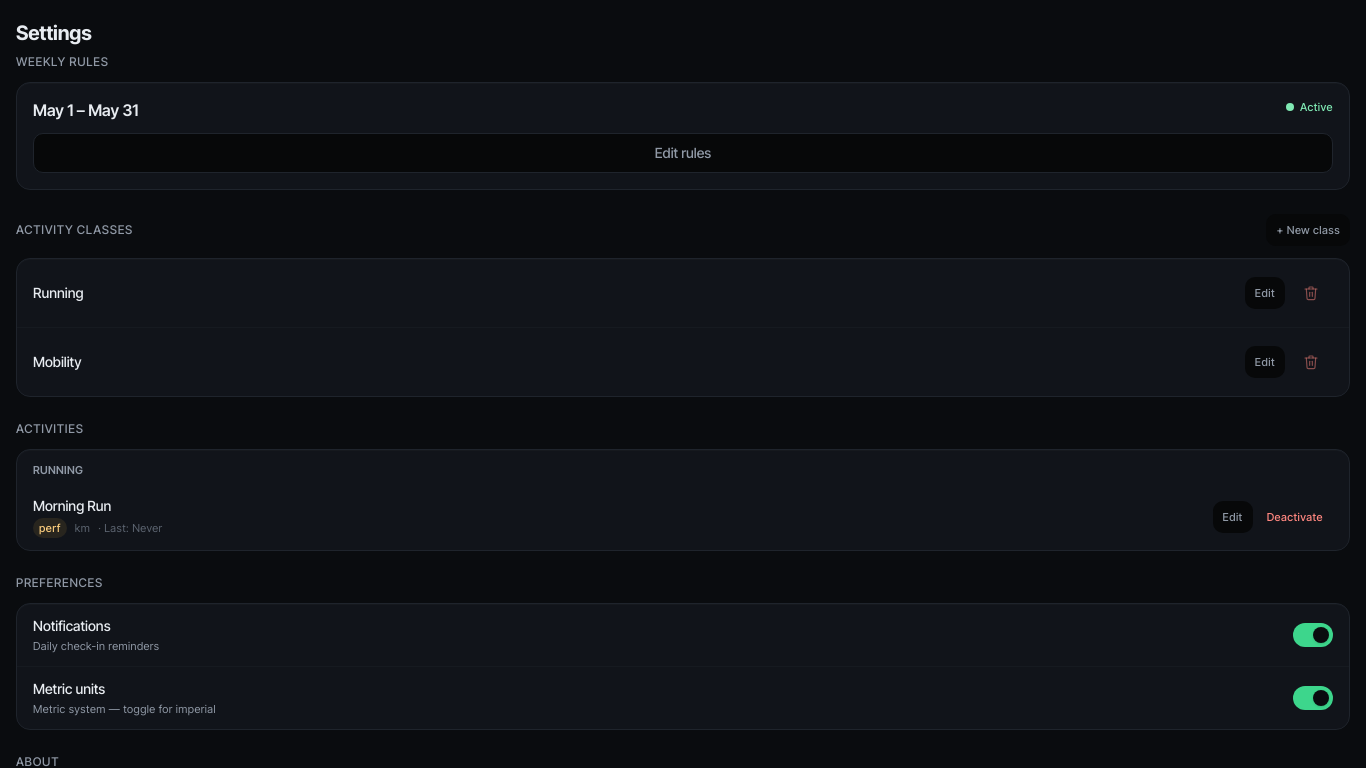
Test case: SettingsScreen — P25.3 Edit activity centered modal › retains X close control that dismisses the modal without saving
Click the button with aria-label "edit morning run" at point(1233, 517), box [1212,501,1253,533]
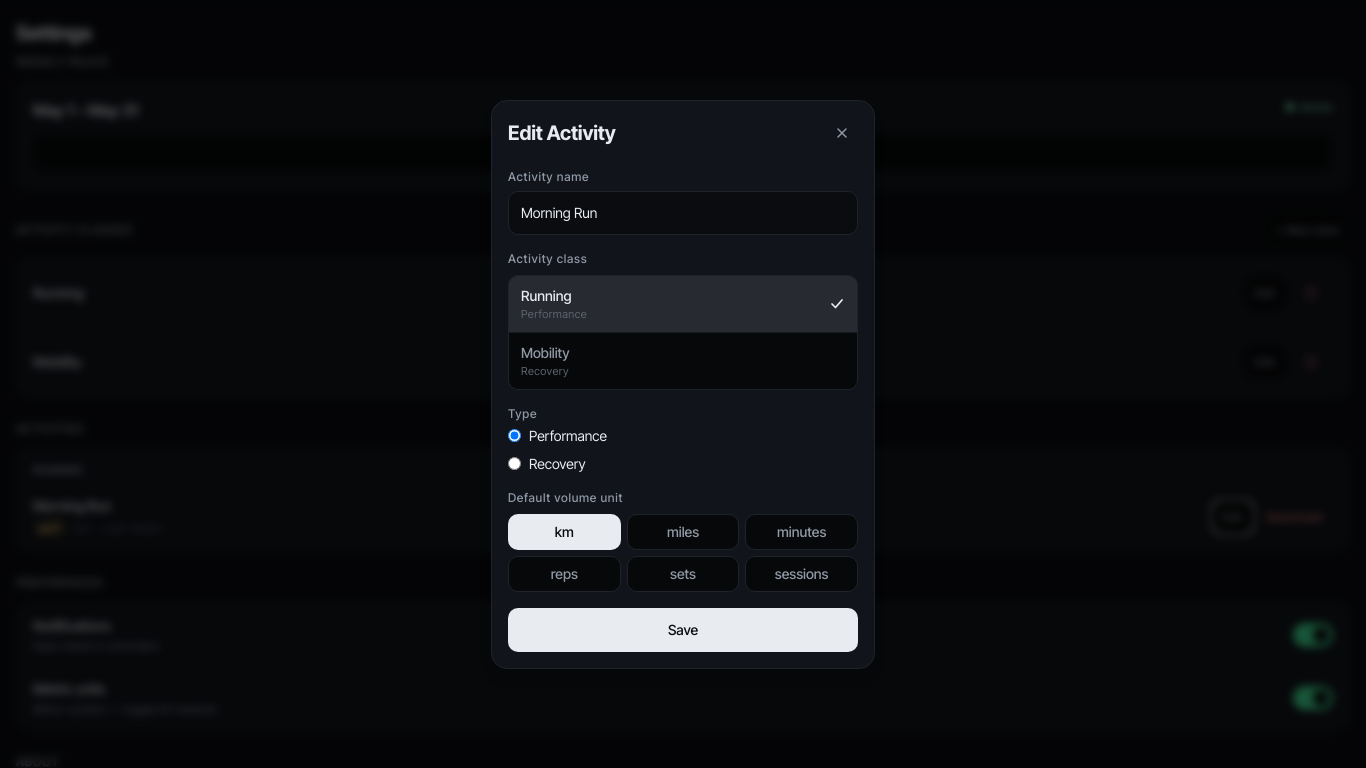
Result: the dialog "Edit Activity" is shown at [491,100,875,668]
Click the button named "close" at point(842, 132), box [826,116,858,148]
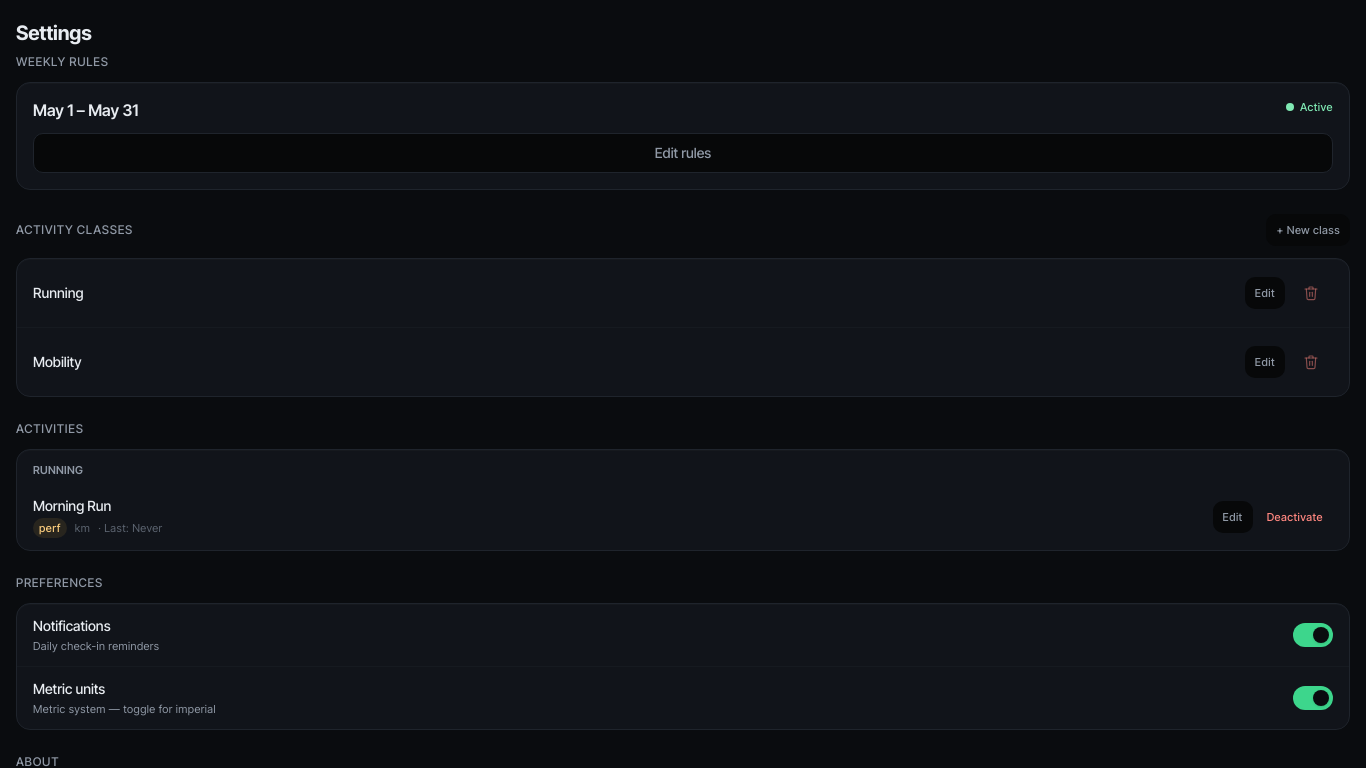
Result: the text "Edit Activity" is gone
